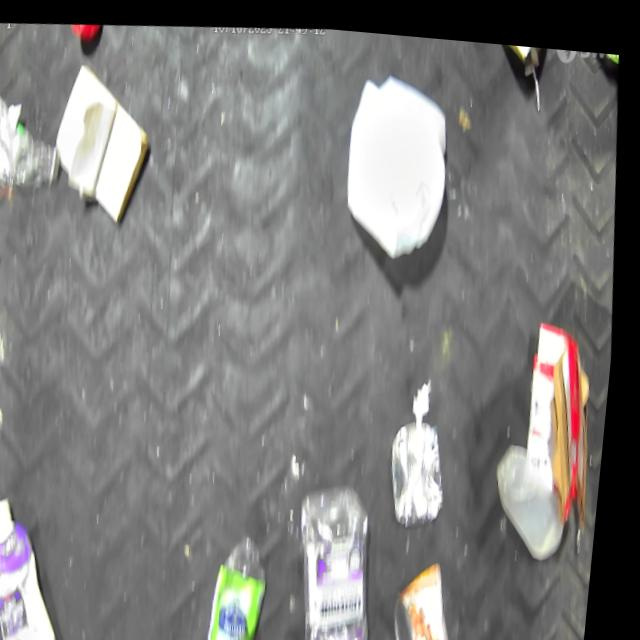can: (395, 544, 480, 640), (390, 405, 460, 521), (487, 34, 547, 71)
milk_jug: (334, 59, 462, 259)
plastic_bottle: (170, 519, 285, 640), (0, 62, 70, 191)
